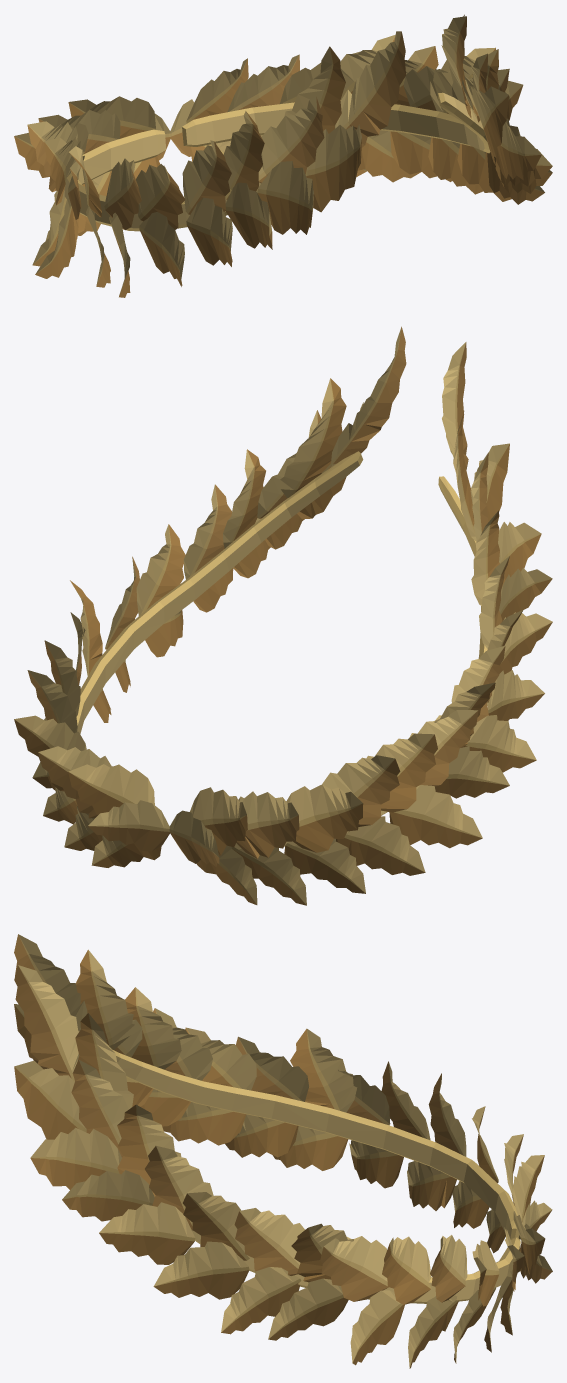
Rendered from greekOakWreathFemale.glb.
The picture shows the model from 3 angles, top to bottom: view 1: azimuth 30°, elevation 25°; view 2: azimuth 150°, elevation 25°; view 3: azimuth 270°, elevation 25°; orthographic projection. The views are drawn at different scales.
Parts seen in each view (by area): view 1: greekOakWreath; view 2: greekOakWreath; view 3: greekOakWreath.
Boxes of the visible parts, x1=… form: greekOakWreath: x1=14, y1=14, x2=552, y2=297; greekOakWreath: x1=14, y1=326, x2=552, y2=905; greekOakWreath: x1=14, y1=934, x2=552, y2=1368.
Size of the model in its own units: 0.3043 by 0.2378 by 0.3323.
